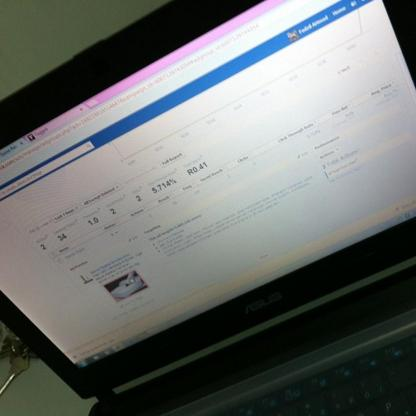board: (0, 14, 416, 416)
